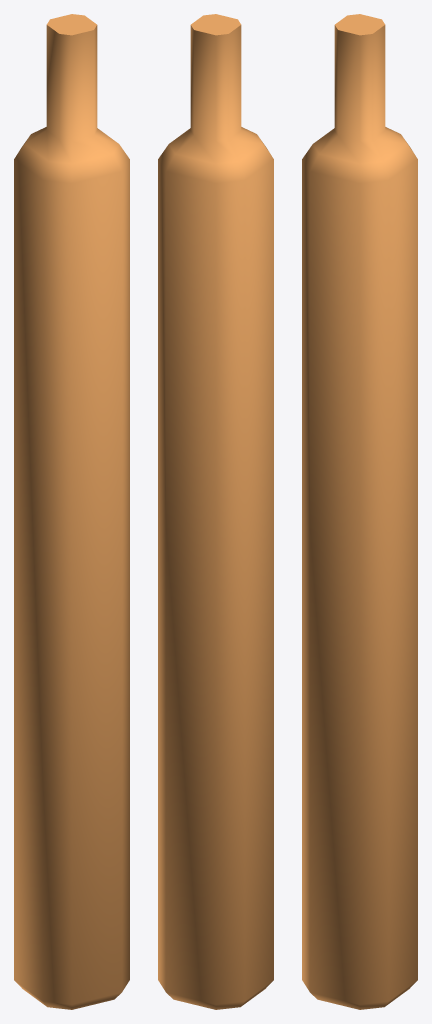
Rendered from diff_1.1.fbx.
3 renders of one model, left to right at view 1: azimuth 30°, elevation 25°; view 2: azimuth 150°, elevation 25°; view 3: azimuth 330°, elevation 25°, orthographic.
Parts seen in each view (by area): view 1: Cylinder; view 2: Cylinder; view 3: Cylinder.
Part boxes in pixels (x1,y1,x2,y2): Cylinder: [14, 14, 129, 1009]; Cylinder: [158, 14, 273, 1009]; Cylinder: [302, 14, 417, 1009].
Bounding box in the file's own units: 74.65 × 793 × 74.65.
